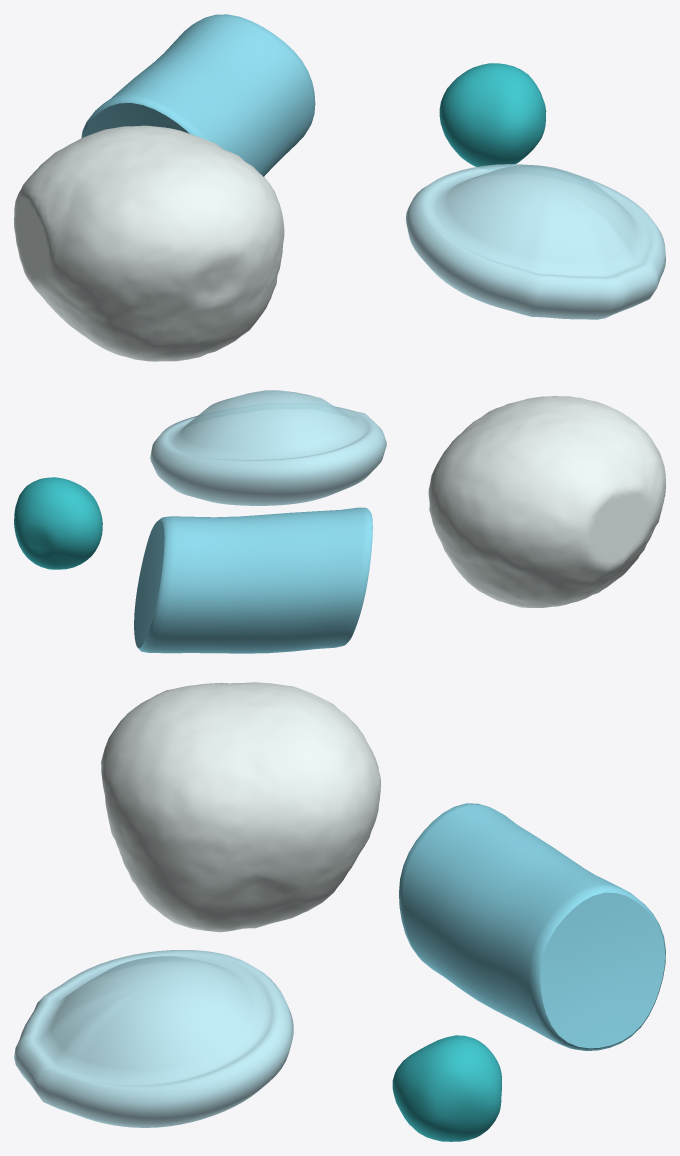
File: pelet.glb
3 renders of one model, top to bottom at view 1: azimuth 30°, elevation 25°; view 2: azimuth 150°, elevation 25°; view 3: azimuth 270°, elevation 25°, orthographic. The views are drawn at different scales.
Parts seen in each view (by area): view 1: pelet; view 2: pelet; view 3: pelet.
Part boxes in pixels (box(x1,y1,x2,y2)): pelet: box(14, 14, 665, 361); pelet: box(14, 390, 665, 653); pelet: box(14, 682, 665, 1141).
Size of the model in its own units: 0.2218 by 0.0717 by 0.1998.
